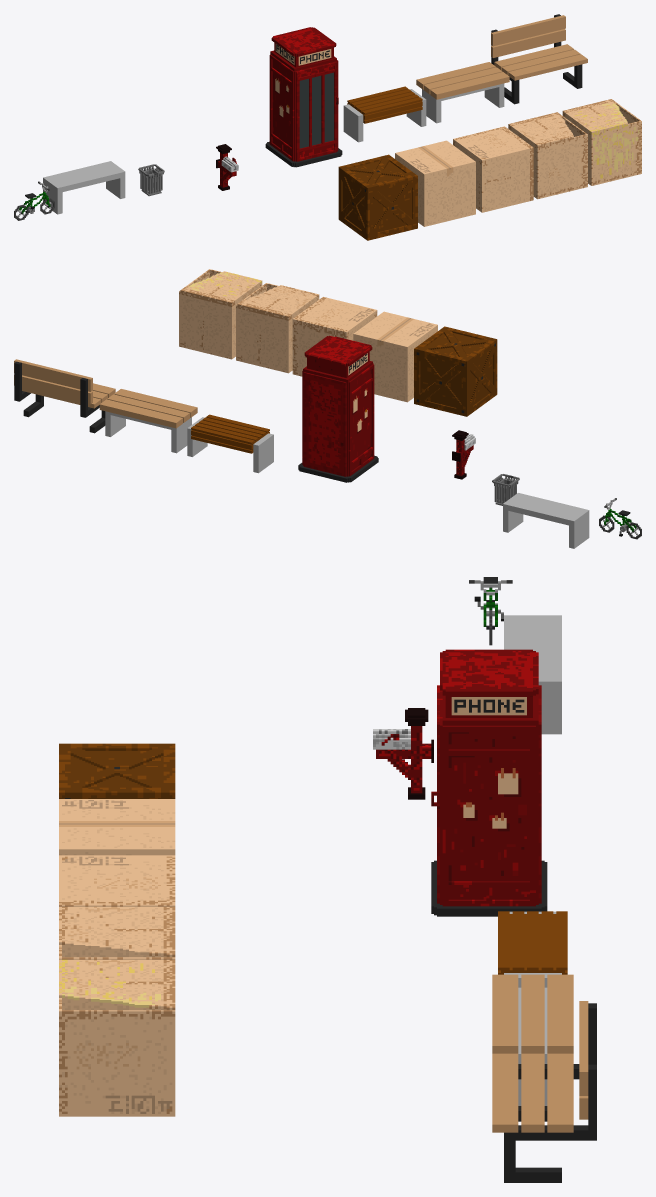
The model's file is others2.fbx.
3 views of the same model, one above another, from view 1: azimuth 30°, elevation 25°; view 2: azimuth 150°, elevation 25°; view 3: azimuth 270°, elevation 25° (orthographic). The views are drawn at different scales.
Visible parts, largest first — view 1: tahat kutu, telefon kulubesi, karton kutu1, karton kutu2, bank4, karton kutu3, karton kutu4, telefon kulubesi kapagi, bank3, bank2, bank1, çöp kovası 1 (+1 smaller); view 2: telefon kulubesi, tahat kutu, karton kutu4, karton kutu3, karton kutu1, bank4, karton kutu2, bank3, bank2, bank1, posta kutusu, çöp kovası 1; view 3: telefon kulubesi, karton kutu4, bank4, bank3, karton kutu1, tahat kutu, karton kutu3, karton kutu2, bank2, bank1, posta kutusu, telefon kulubesi kapagi.
Part boxes in pixels (box(x1,y1,x2,y2)): tahat kutu: box(338, 154, 417, 240); telefon kulubesi: box(265, 27, 342, 167); karton kutu1: box(395, 140, 475, 226); karton kutu2: box(453, 126, 533, 212); bank4: box(491, 14, 587, 104); karton kutu3: box(508, 112, 587, 199); karton kutu4: box(562, 99, 641, 185); telefon kulubesi kapagi: box(294, 61, 338, 161); bank3: box(416, 62, 509, 123); bank2: box(343, 86, 426, 142); bank1: box(43, 161, 125, 214); çöp kovası 1: box(138, 164, 164, 196); telefon kulubesi: box(298, 335, 378, 482); tahat kutu: box(414, 326, 497, 416); karton kutu4: box(179, 269, 262, 359); karton kutu3: box(236, 283, 319, 373); karton kutu1: box(353, 311, 437, 402); bank4: box(14, 359, 115, 433); karton kutu2: box(292, 297, 377, 376); bank3: box(99, 389, 197, 453); bank2: box(187, 414, 273, 473); bank1: box(503, 493, 589, 548); posta kutusu: box(452, 430, 474, 479); çöp kovası 1: box(492, 474, 519, 505); telefon kulubesi: box(431, 649, 547, 916); karton kutu4: box(59, 959, 175, 1116); bank4: box(492, 1001, 596, 1182); bank3: box(492, 974, 573, 1105); karton kutu1: box(59, 799, 175, 855); tahat kutu: box(59, 743, 175, 798); karton kutu3: box(59, 906, 175, 959); karton kutu2: box(59, 855, 175, 906); bank2: box(498, 911, 567, 987); bank1: box(504, 615, 561, 734); posta kutusu: box(376, 708, 433, 799); telefon kulubesi kapagi: box(431, 685, 442, 904).
Bounding box in the file's own units: 4559 × 900 × 1850.
17 materials, 17 textured.
